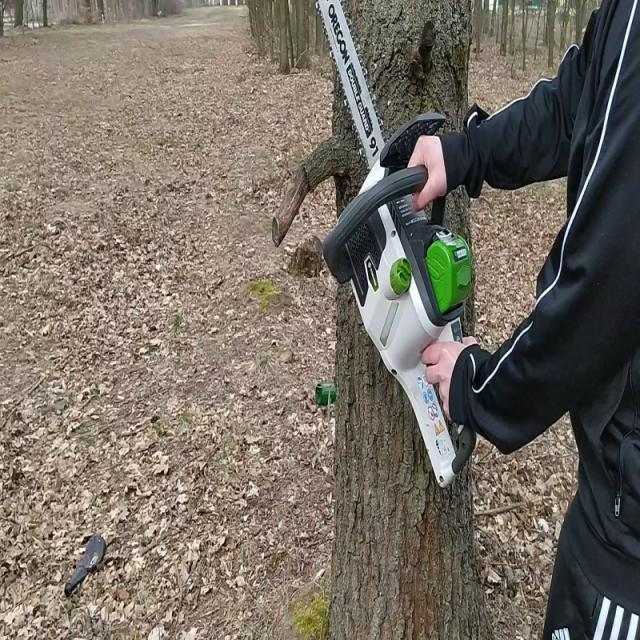Chainsaw: (312, 0, 482, 493)
